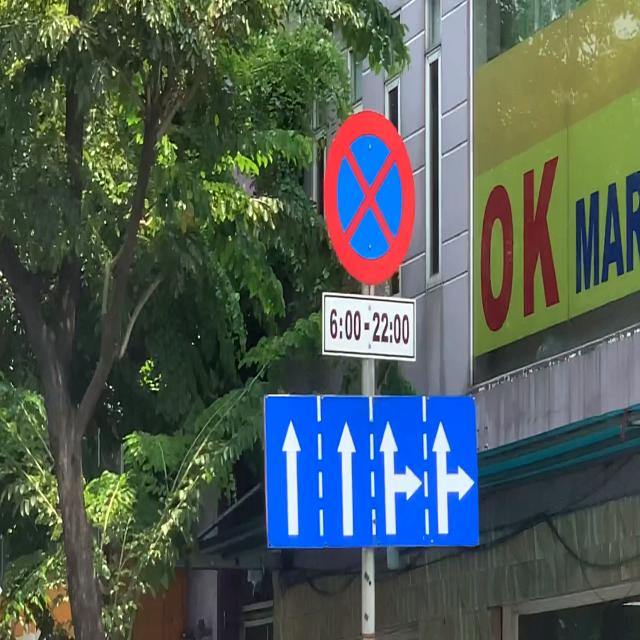P.130: (321, 106, 418, 291)
